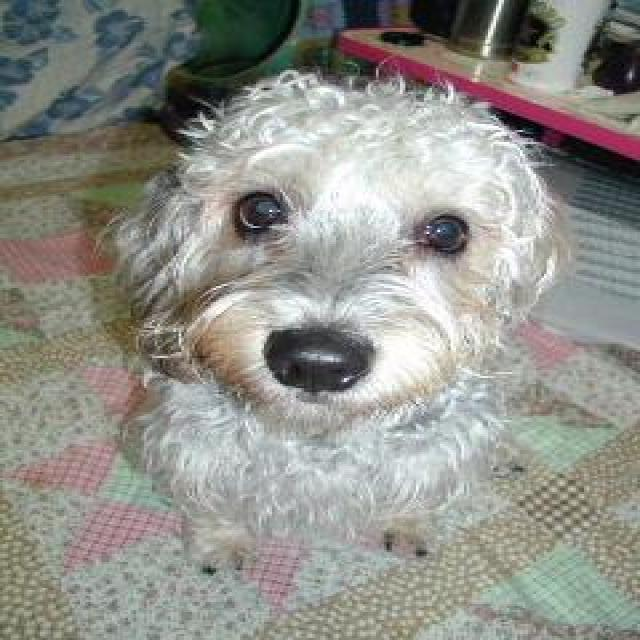dandie_dinmont: (104, 74, 571, 580)
